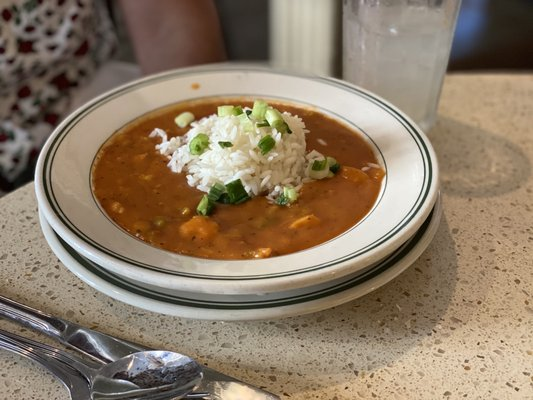pizza: (341, 0, 464, 134)
salad: (0, 292, 289, 400)
sushi: (32, 59, 436, 313)
